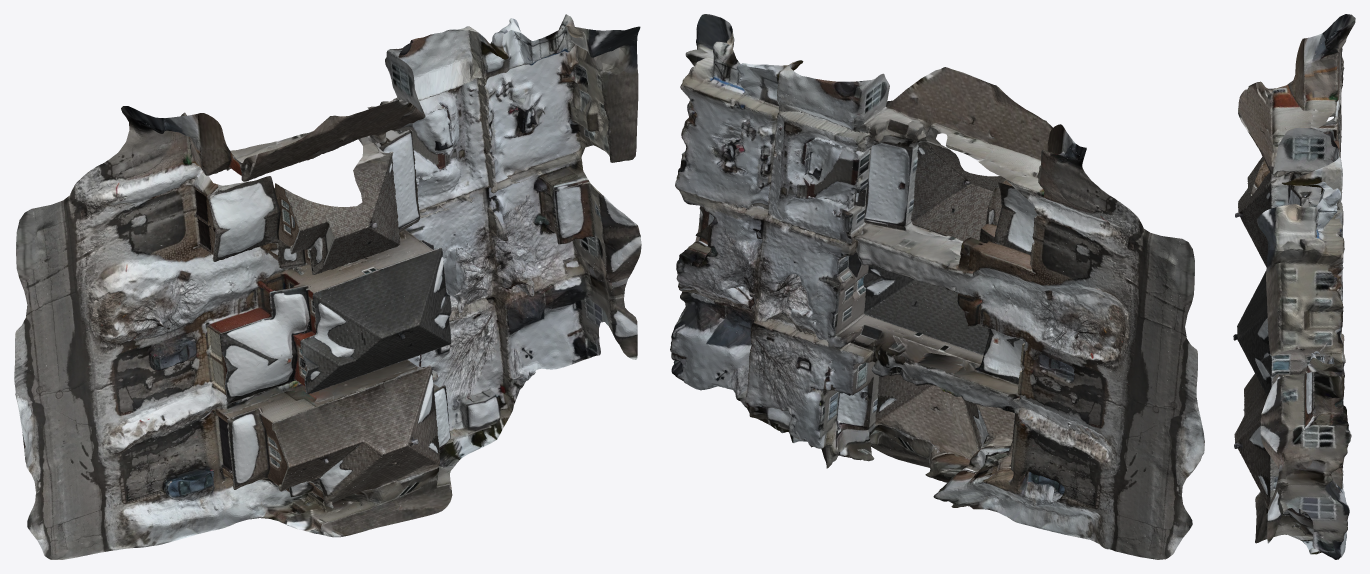
The picture shows the model from 3 angles, left to right: view 1: azimuth 30°, elevation 25°; view 2: azimuth 150°, elevation 25°; view 3: azimuth 270°, elevation 25°; orthographic projection. The views are drawn at different scales.
Visible parts, largest first — view 1: scene_mesh_textured_1, scene_mesh_textured_3, scene_mesh_textured_2; view 2: scene_mesh_textured_1, scene_mesh_textured_3, scene_mesh_textured_2; view 3: scene_mesh_textured_1, scene_mesh_textured_3, scene_mesh_textured_2.
Part boxes in pixels (x1,y1,x2,y2): scene_mesh_textured_1: (16,14,641,559); scene_mesh_textured_3: (14,108,637,557); scene_mesh_textured_2: (15,45,587,509); scene_mesh_textured_1: (675,14,1204,559); scene_mesh_textured_3: (670,145,1204,557); scene_mesh_textured_2: (681,91,1197,503); scene_mesh_textured_1: (1233,14,1355,554); scene_mesh_textured_3: (1252,18,1355,559); scene_mesh_textured_2: (1234,163,1345,540).
Bounding box in the file's own units: 56.54 × 40.43 × 10.9.
3 materials, 3 textured.
